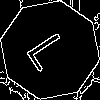L: (25, 25, 79, 74)
